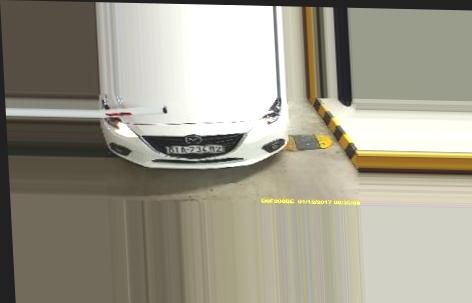License_Plate: (163, 140, 226, 157)
